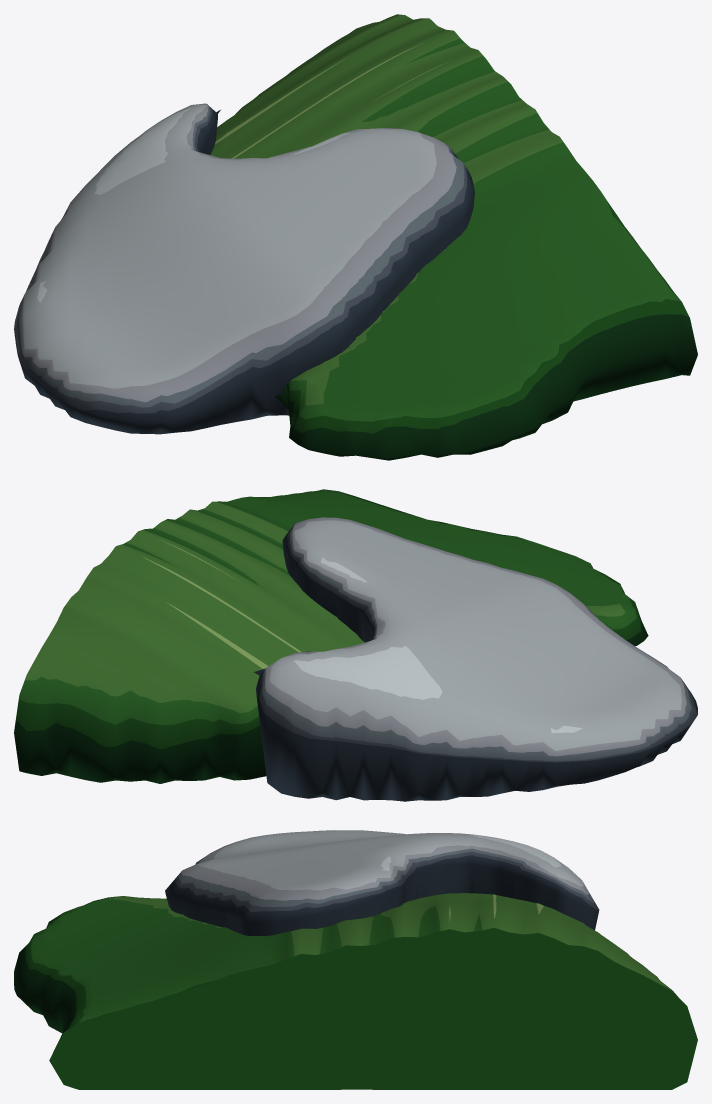
The model's file is torm_beetle_seg2_l.glb.
3 views of the same model, one above another, from view 1: azimuth 30°, elevation 25°; view 2: azimuth 150°, elevation 25°; view 3: azimuth 270°, elevation 25° (orthographic). The views are drawn at different scales.
Parts seen in each view (by area): view 1: torm_beetle_seg2_l; view 2: torm_beetle_seg2_l; view 3: torm_beetle_seg2_l.
Boxes of the visible parts, x1,y1,x2,y2 form: torm_beetle_seg2_l: (14,14,697,460); torm_beetle_seg2_l: (14,489,697,801); torm_beetle_seg2_l: (14,830,697,1089).
Size of the model in its own units: 21.99 by 7.4 by 27.93.
